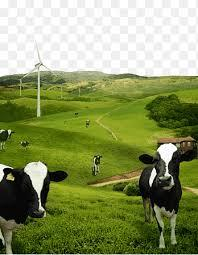cow: (0, 161, 70, 255), (139, 142, 197, 249), (0, 127, 16, 149), (90, 154, 103, 177)
